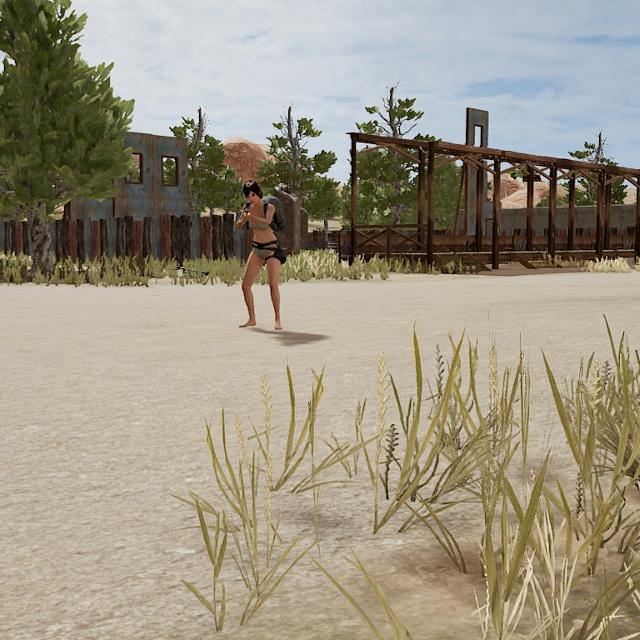head: (240, 179, 264, 208)
people: (230, 179, 288, 338)
